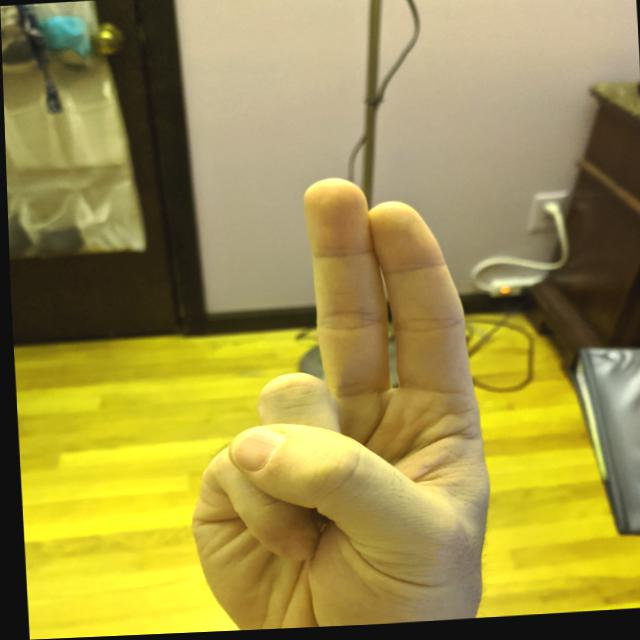U: (162, 164, 507, 634)
